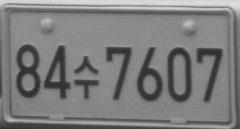0: (165, 46, 193, 102)
4: (42, 44, 70, 99)
6: (136, 46, 163, 101)
7: (196, 46, 223, 102), (105, 45, 132, 100)
8: (15, 43, 41, 98)
수: (74, 55, 99, 100)
